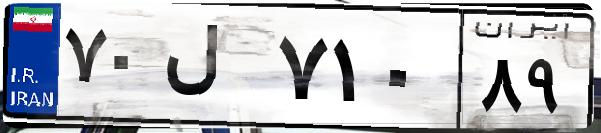0: (385, 28, 445, 110), (110, 28, 158, 98)
1: (330, 28, 385, 110)
7: (270, 28, 330, 110), (57, 26, 110, 100)
8: (475, 38, 525, 113)
9: (525, 38, 570, 115)
ل: (158, 20, 270, 120)
